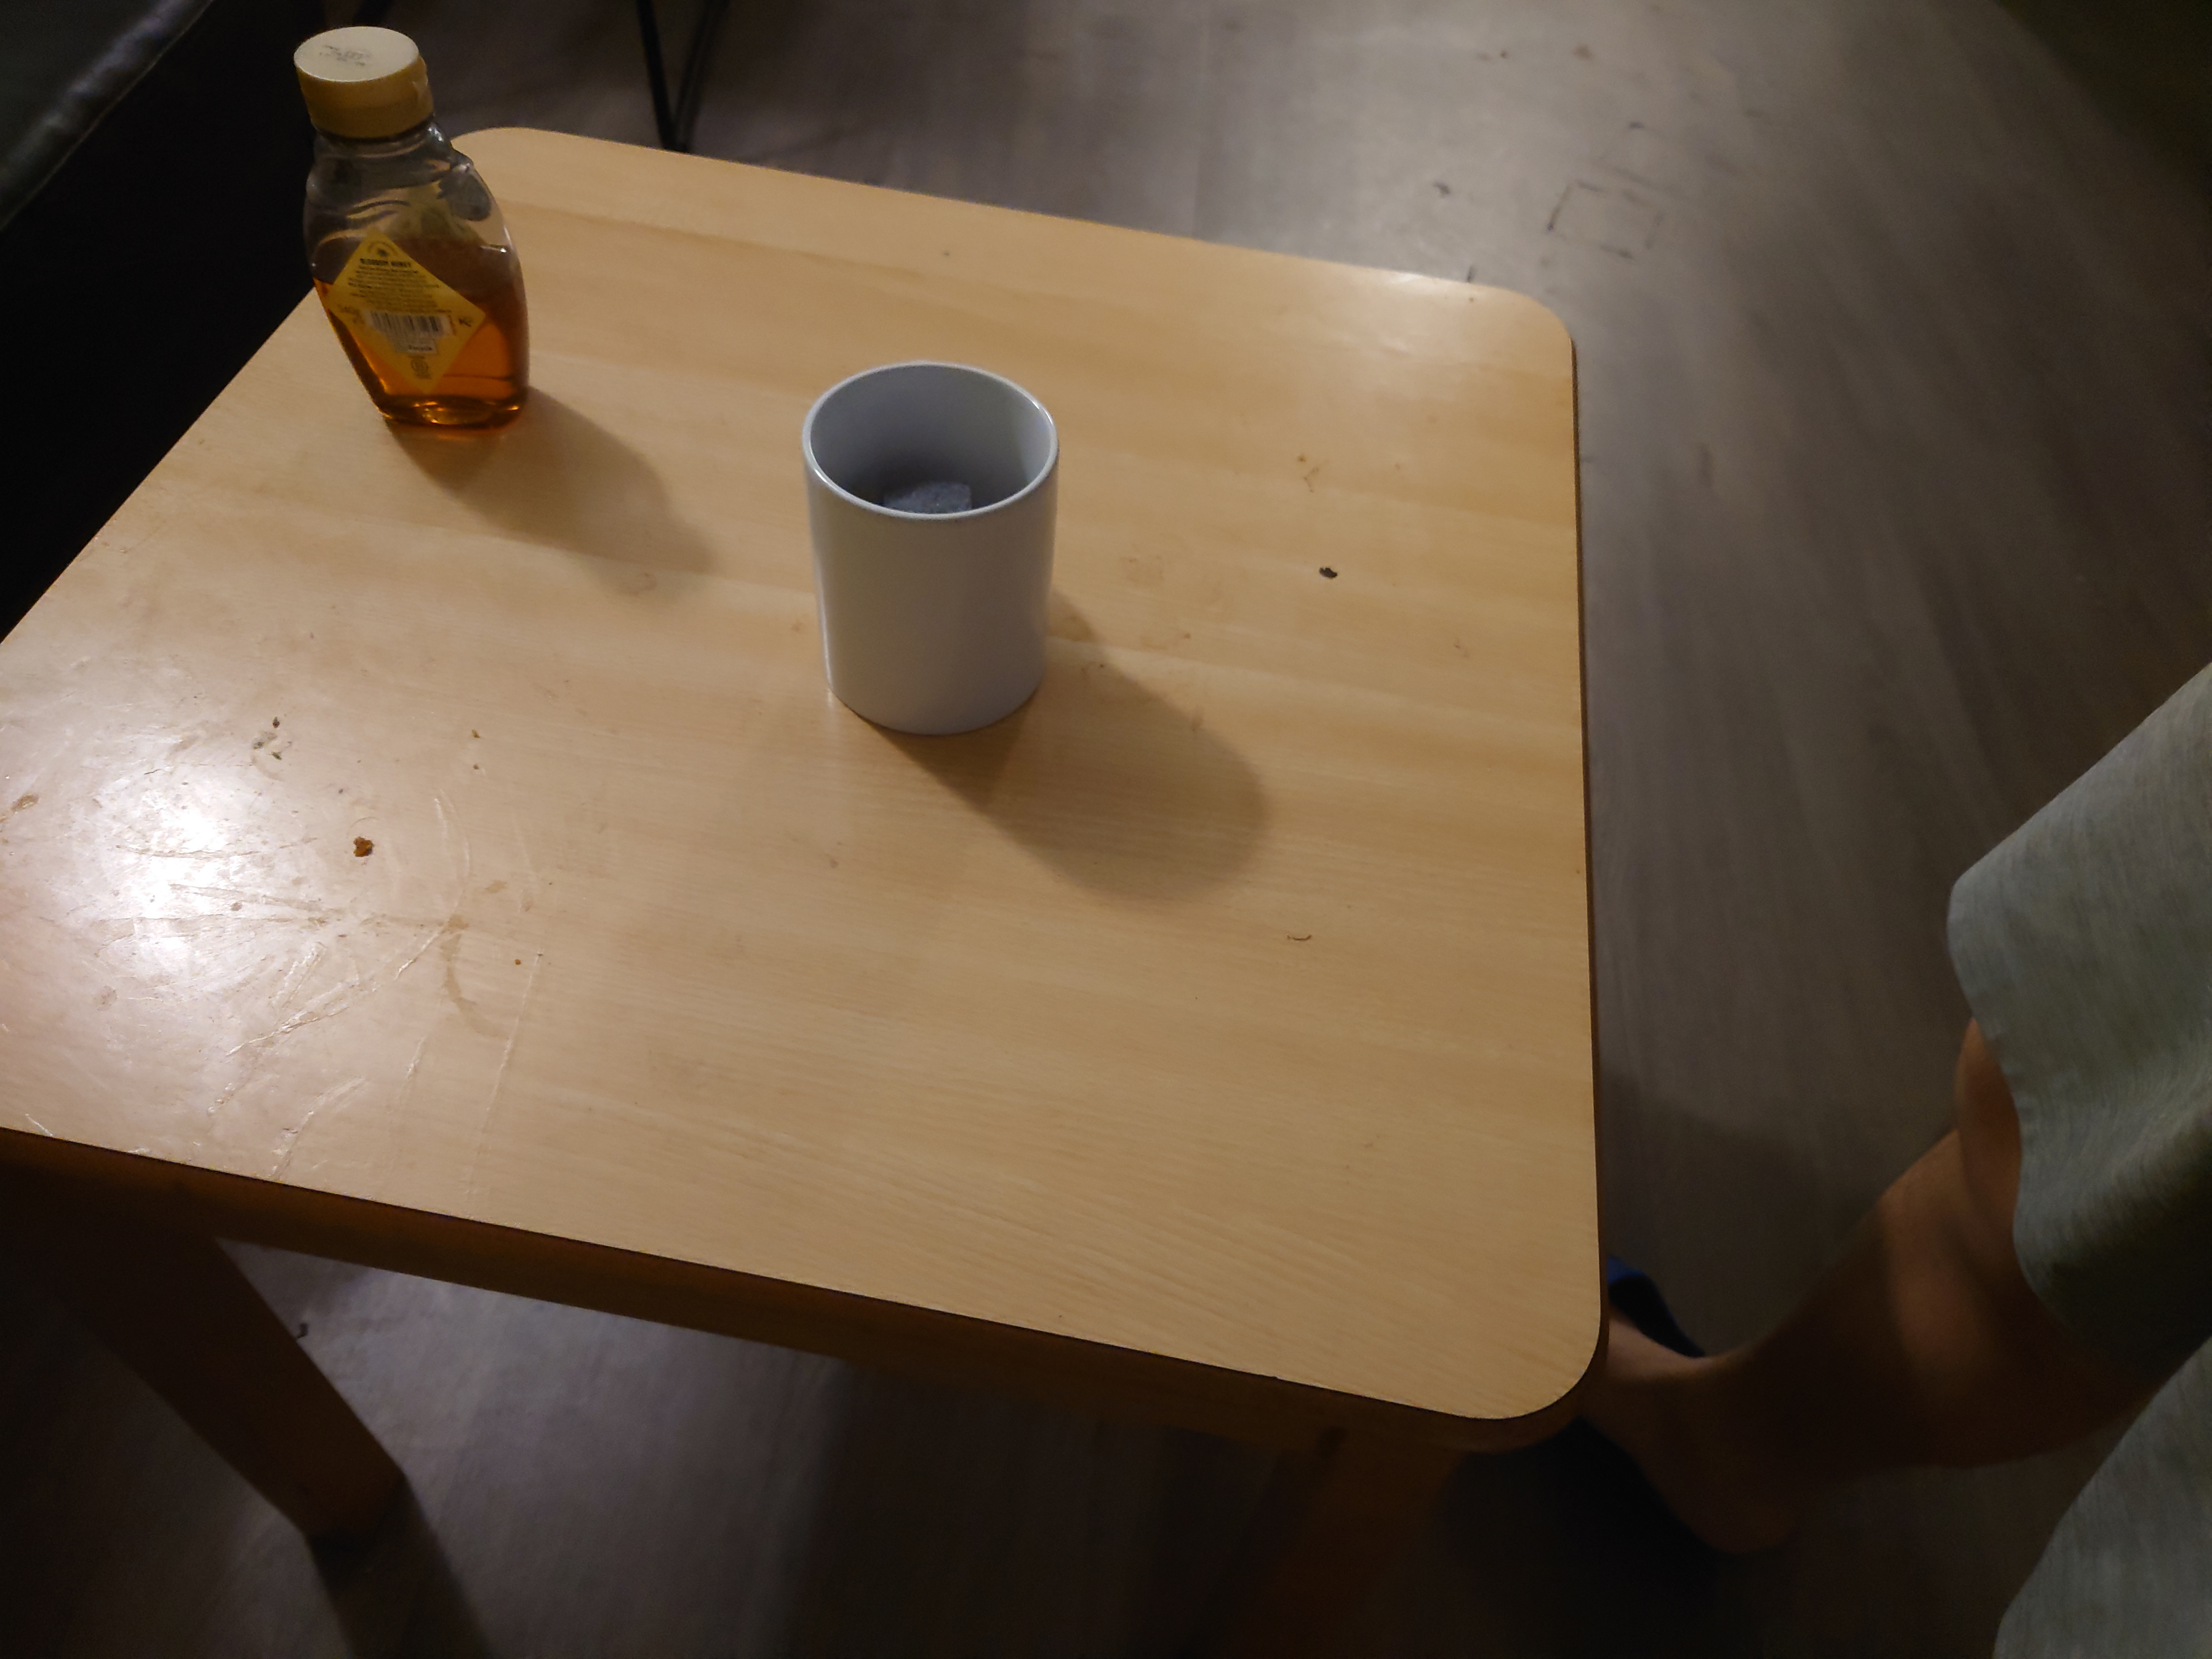cup: (789, 366, 1075, 741)
target: (876, 474, 974, 681)
